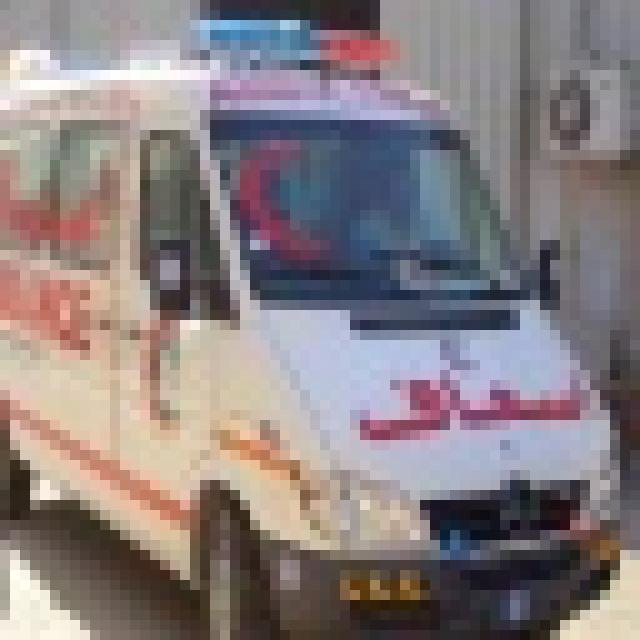Ambulance: (0, 30, 620, 630)
